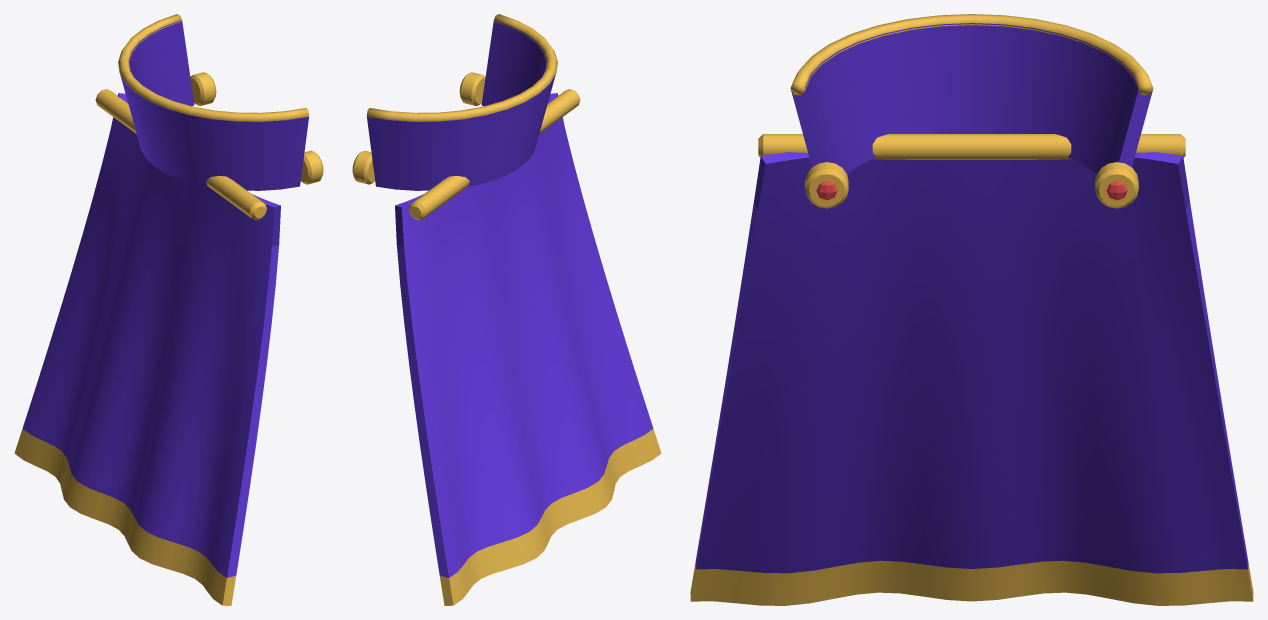
The model's file is detail_cape.glb.
3 views of the same model, side by side, from view 1: azimuth 30°, elevation 25°; view 2: azimuth 150°, elevation 25°; view 3: azimuth 270°, elevation 25° (orthographic). The views are drawn at different scales.
Parts seen in each view (by area): view 1: detail_cape; view 2: detail_cape; view 3: detail_cape.
Boxes of the visible parts, left/top/right/bottom form: detail_cape: left=14, top=14, right=323, bottom=605; detail_cape: left=352, top=14, right=661, bottom=605; detail_cape: left=690, top=14, right=1253, bottom=605.
Size of the model in its own units: 0.5226 by 1.35 by 1.16.
